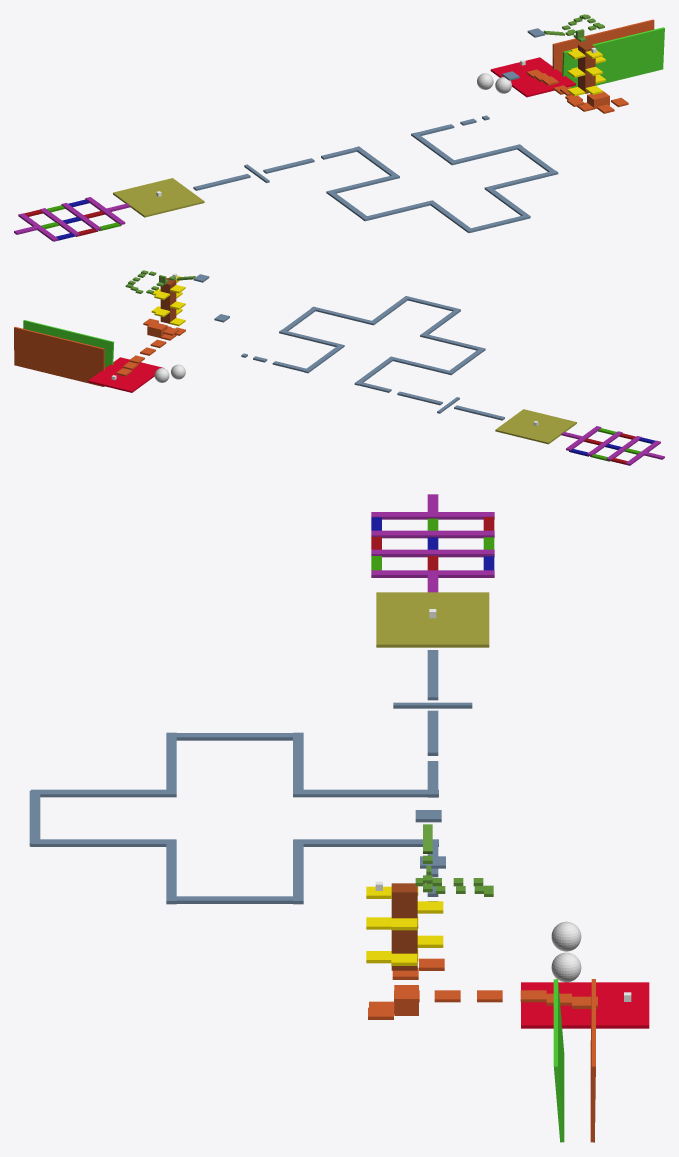
Rendered from map.glb.
3 views of the same model, one above another, from view 1: azimuth 30°, elevation 25°; view 2: azimuth 150°, elevation 25°; view 3: azimuth 270°, elevation 25° (orthographic). The views are drawn at different scales.
Parts seen in each view (by area): view 1: Box.074, Box.057, Box.005, Box.075, Box.013, Box.050, Box.051, Box.049, Box.052; view 2: Box.075, Box.057, Box.005, Box.074, Box.013; view 3: Box.057, Box.005, Box.013, Box.074, Box.047, Box.046, Box.048, Box.063, Box.062, Box.045, Box.060, Box.054 (+2 smaller).
Boxes of the visible parts, x1=… form: Box.074: x1=562, y1=27, x2=664, y2=87; Box.057: x1=113, y1=178, x2=204, y2=217; Box.005: x1=490, y1=57, x2=575, y2=97; Box.075: x1=552, y1=19, x2=654, y2=72; Box.013: x1=578, y1=42, x2=595, y2=93; Box.050: x1=326, y1=174, x2=399, y2=194; Box.051: x1=362, y1=200, x2=433, y2=221; Box.049: x1=450, y1=144, x2=522, y2=165; Box.052: x1=485, y1=170, x2=558, y2=189; Box.075: x1=14, y1=327, x2=104, y2=386; Box.057: x1=495, y1=409, x2=576, y2=444; Box.005: x1=88, y1=357, x2=163, y2=392; Box.074: x1=23, y1=320, x2=114, y2=367; Box.013: x1=160, y1=278, x2=176, y2=323; Box.057: x1=376, y1=592, x2=489, y2=647; Box.005: x1=521, y1=982, x2=649, y2=1028; Box.013: x1=391, y1=883, x2=417, y2=970; Box.074: x1=553, y1=979, x2=564, y2=1142; Box.047: x1=31, y1=789, x2=176, y2=797; Box.046: x1=293, y1=789, x2=438, y2=797; Box.048: x1=31, y1=839, x2=176, y2=846; Box.063: x1=371, y1=530, x2=494, y2=538; Box.062: x1=371, y1=549, x2=494, y2=557; Box.045: x1=293, y1=839, x2=438, y2=846; Box.060: x1=371, y1=570, x2=494, y2=577; Box.054: x1=169, y1=733, x2=299, y2=740.
Size of the model in its own units: 792 by 115 by 349.
